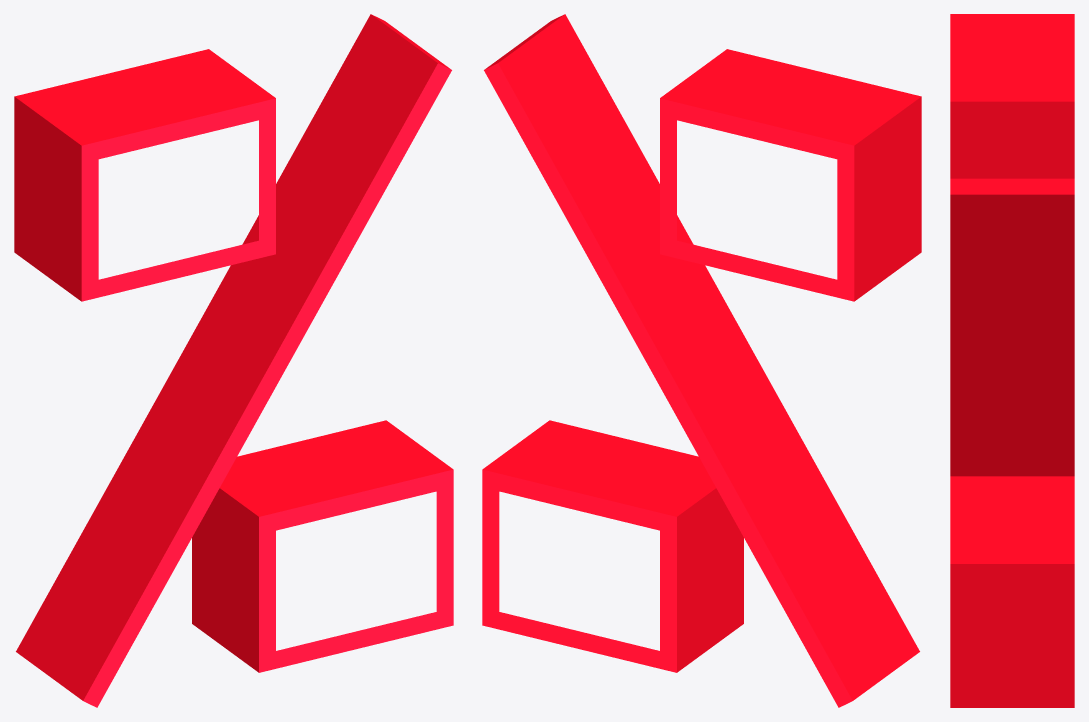
3 views of the same model, side by side, from view 1: azimuth 30°, elevation 25°; view 2: azimuth 150°, elevation 25°; view 3: azimuth 270°, elevation 25° (orthographic). The views are drawn at different scales.
Parts seen in each view (by area): view 1: %_AlphaProta_Red; view 2: %_AlphaProta_Red; view 3: %_AlphaProta_Red.
Boxes of the visible parts, x1=… form: %_AlphaProta_Red: x1=14, y1=14, x2=453, y2=707; %_AlphaProta_Red: x1=482, y1=14, x2=921, y2=707; %_AlphaProta_Red: x1=950, y1=14, x2=1074, y2=707.
Size of what is drawn, in the model's own units: 0.1436 by 0.2105 by 0.045.
Materials: 2 (2 with a texture image).
